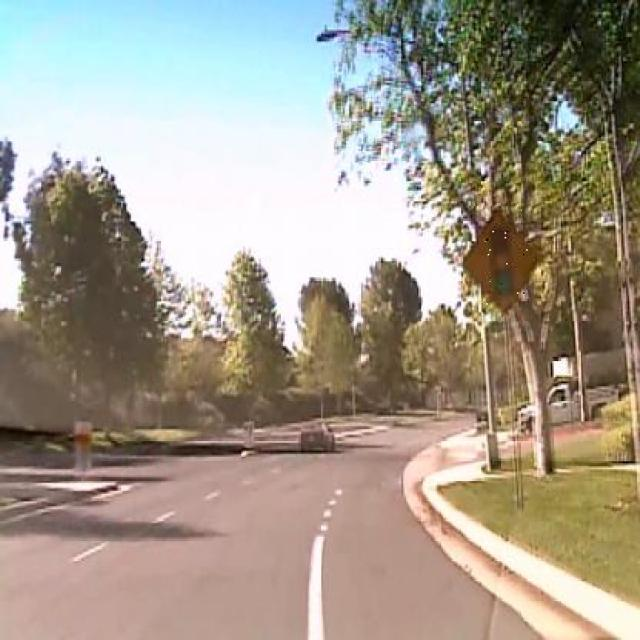signalAhead: (464, 206, 542, 314)
